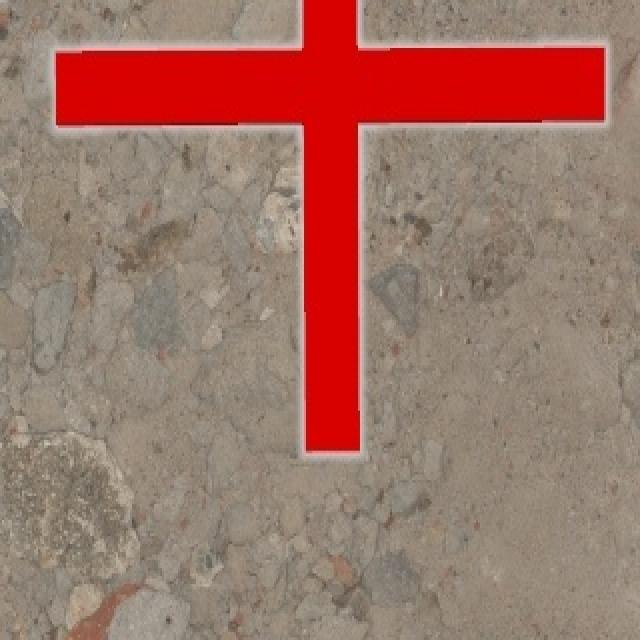x_marker: (53, 0, 605, 451)
